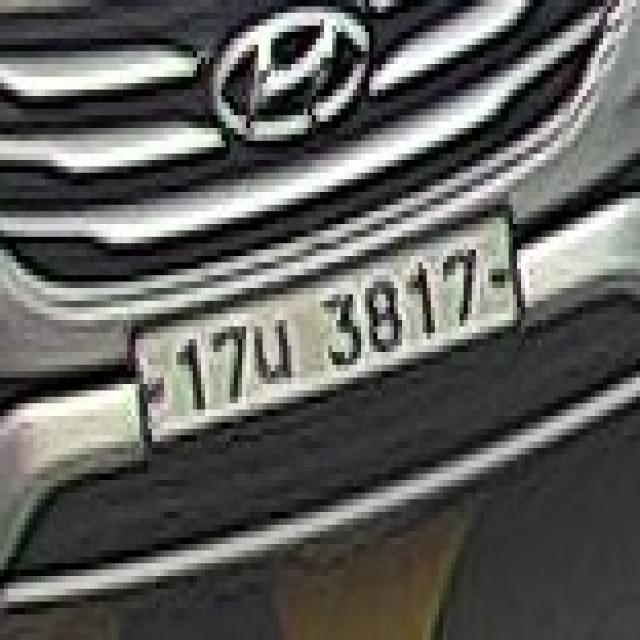1: (172, 320, 214, 429), (406, 250, 439, 346)
3: (316, 275, 365, 384)
7: (210, 314, 254, 416), (439, 230, 480, 333)
8: (361, 262, 406, 365)
license_plate: (115, 179, 537, 480)
na: (254, 314, 304, 403)
